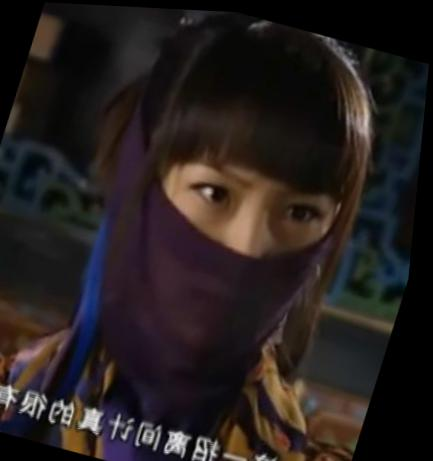WRONG: (115, 133, 354, 377)
